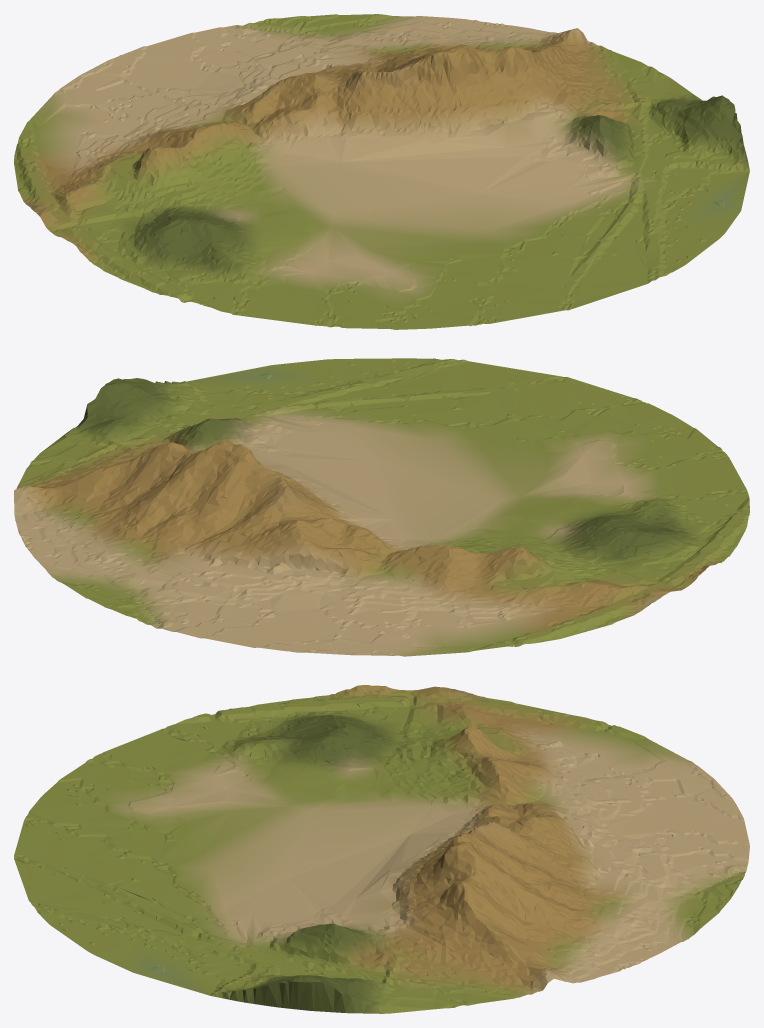
The model's file is terrain.glb.
3 renders of one model, top to bottom at view 1: azimuth 30°, elevation 25°; view 2: azimuth 150°, elevation 25°; view 3: azimuth 270°, elevation 25°, orthographic.
Visible parts, largest first — view 1: terrain; view 2: terrain; view 3: terrain.
Part boxes in pixels (x1,y1,x2,y2): terrain: [14, 14, 749, 329]; terrain: [14, 358, 749, 656]; terrain: [14, 685, 749, 1013].
Bounding box in the file's own units: 2154 × 232 × 2153.
